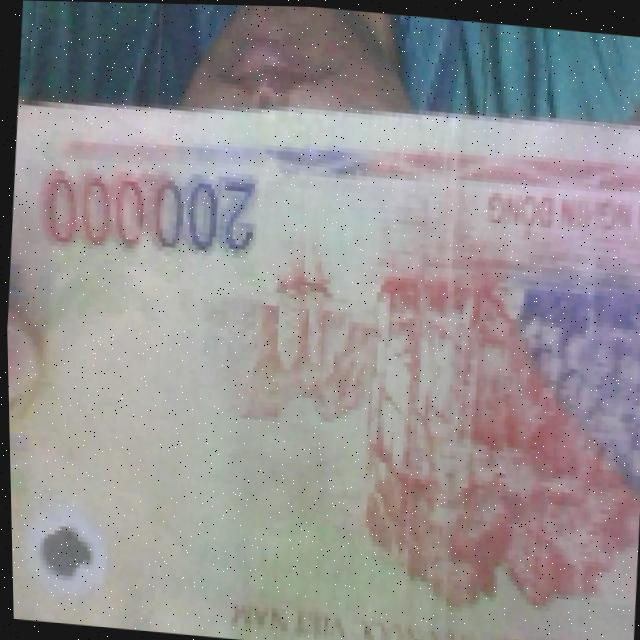200 000 VND: (1, 67, 640, 640)
